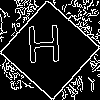H: (25, 25, 63, 73)
